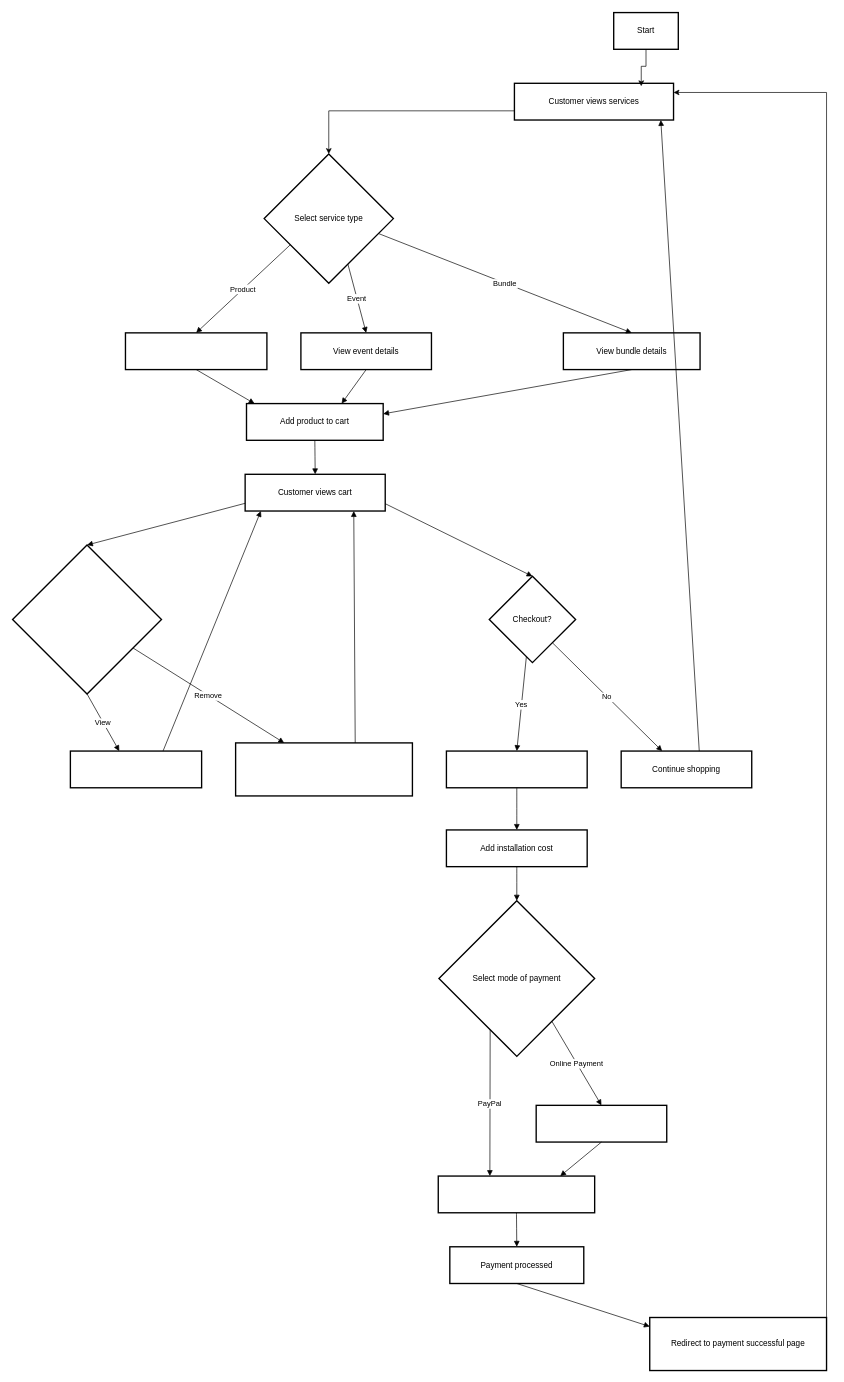
Some shapes in this 844 by 1382 pixel diagram are drawn without their labels. The shapes that lost their labels are listed below. From the top down, each one's box as (x1, y1, x2, y2) in pixels, then its label:
(124, 332, 267, 370): View product details
(12, 544, 162, 694): View or Remove items?
(69, 750, 202, 788): Show items in cart
(235, 742, 413, 796): Remove selected item from cart
(445, 750, 588, 788): Proceed to checkout
(535, 1104, 667, 1142): Upload screenshot
(437, 1175, 595, 1213): Process PayPal payment
